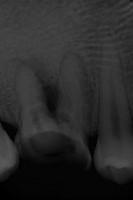Dental Caries: (20, 56, 60, 114)
